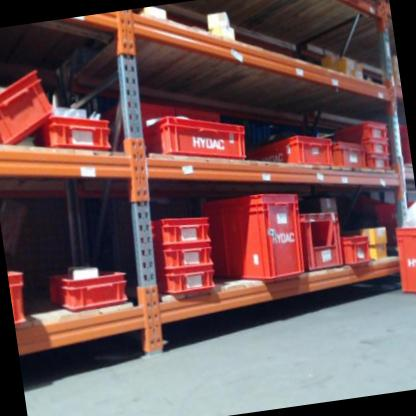small_load_carrier: (198, 185, 308, 290), (138, 103, 251, 176), (0, 63, 64, 148), (30, 103, 115, 165), (243, 126, 336, 180), (47, 262, 128, 313), (296, 206, 348, 276), (144, 211, 213, 251), (150, 240, 215, 273), (156, 267, 222, 298), (390, 224, 416, 299), (327, 118, 390, 146), (8, 265, 34, 326), (330, 133, 366, 176), (342, 231, 372, 270), (354, 136, 391, 158), (360, 153, 391, 175)
